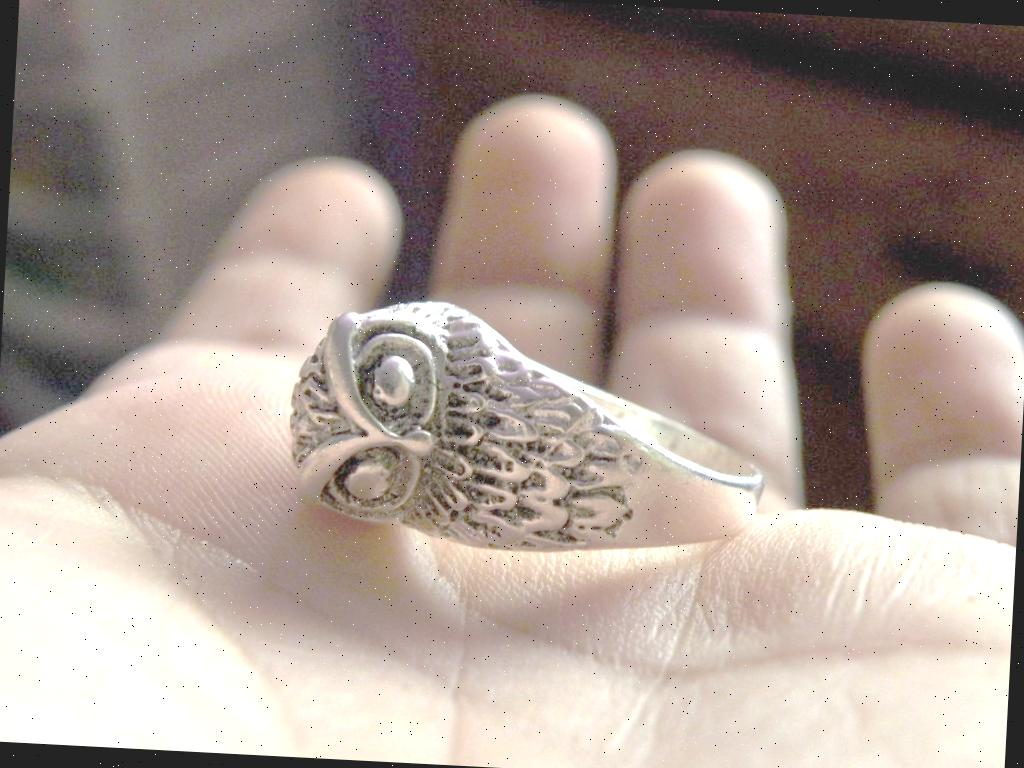Owl: (280, 289, 658, 554)
